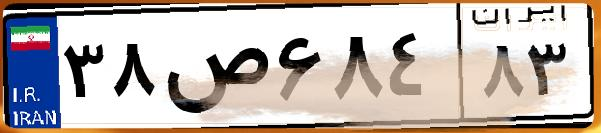3: (57, 26, 110, 100), (525, 38, 570, 115)
4: (385, 28, 445, 110)
6: (270, 28, 330, 110)
8: (330, 28, 385, 110), (475, 38, 525, 113), (110, 28, 158, 98)
ص: (158, 20, 270, 120)
